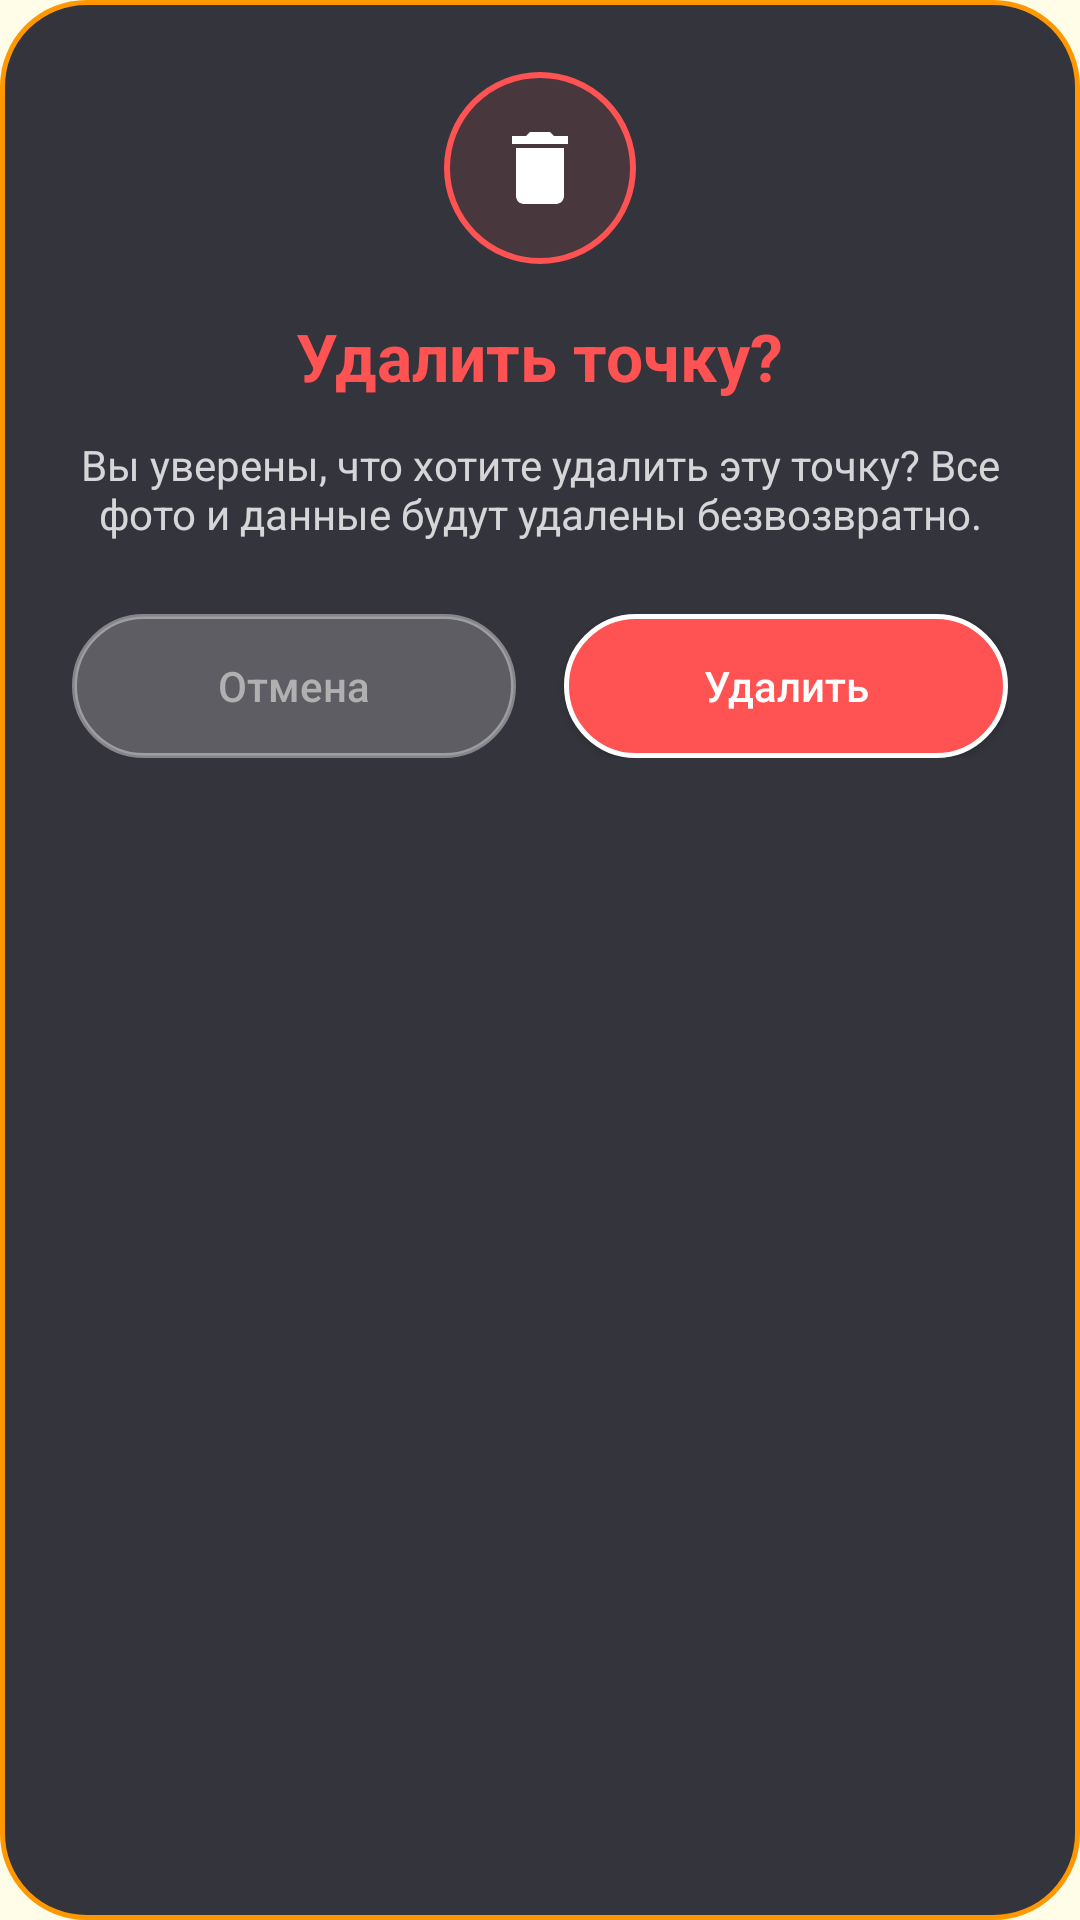

Where icons sit on this 1080px x 1920px app screen, as bbox=(x1, y1, x2, y2):
trash premium: bbox=(444, 72, 636, 264)
